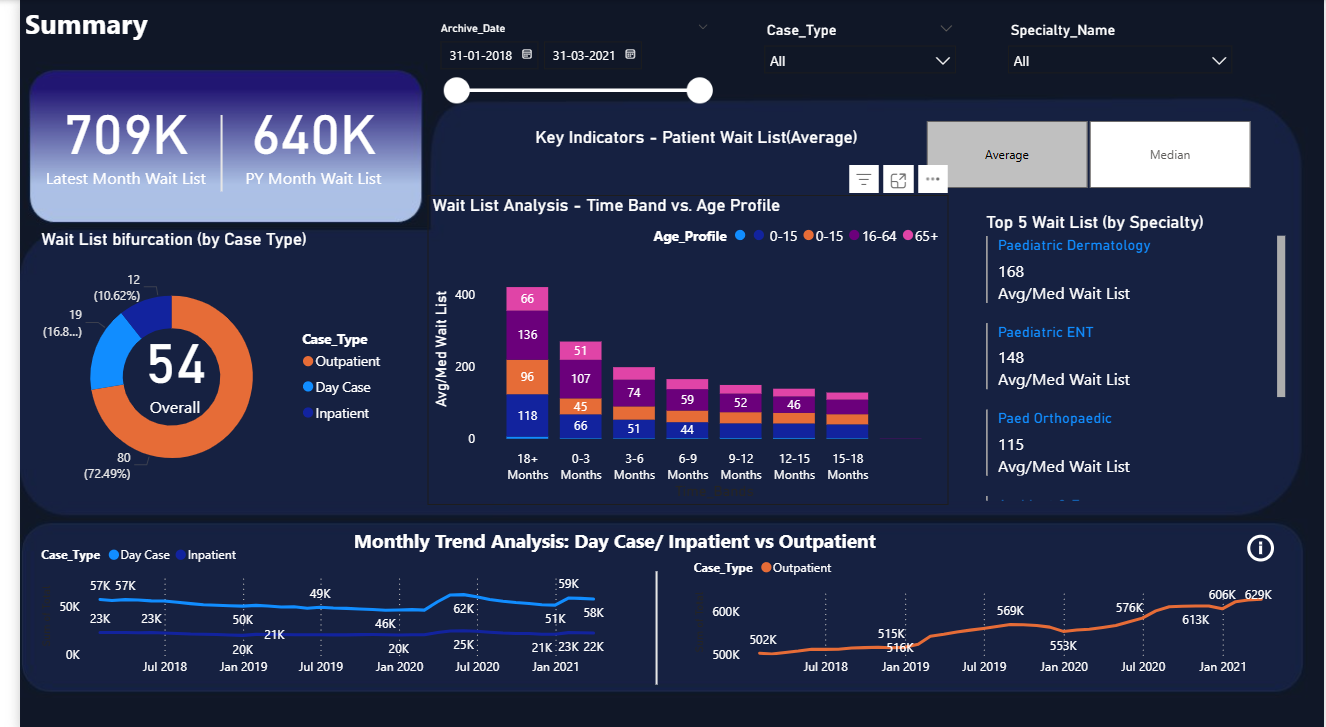

The page's visual inventory and layout, read from the dashboard file:
{"tool":"powerbi","page":{"name":"Summary","canvas":[1280,720],"ordinal":0},"visuals":[{"type":"card","fields":{"Values":["All_Data.Latest Month Wait List"]},"box":[16.2,63.8,176.2,143.8],"z":0},{"type":"card","fields":{"Values":["All_Data.PY Month Wait List"]},"box":[192.5,63.8,191.2,143.8],"z":1000},{"type":"slicer","fields":{"Values":["Calculation Method.Calc Method"]},"box":[864,112,368,80],"z":2000},{"type":"donutChart","title":"Wait List bifurcation (by Case Type)","fields":{"Category":["All_Data.Case_Type"],"Y":["All_Data.Avg/Med Wait List"]},"box":[16,224,352,272],"z":3000},{"type":"columnChart","title":"Wait List Analysis - Time Band vs. Age Profile","fields":{"Y":["All_Data.Avg/Med Wait List"],"Series":["All_Data.Age_Profile"],"Category":["All_Data.Time_Bands"]},"box":[400,192,512,304],"z":4000},{"type":"multiRowCard","title":"Top 5 Wait List (by Specialty)","fields":{"Values":["All_Data.Avg/Med Wait List","All_Data.Specialty_Name"]},"box":[943.8,207.5,303.8,288.8],"z":5000},{"type":"card","fields":{"Values":["All_Data.NoDataLeft"]},"box":[152.5,561.2,266.2,105],"z":6000},{"type":"lineChart","fields":{"Category":["All_Data.Archive_Date"],"Y":["Sum(All_Data.Total)"],"Series":["All_Data.Case_Type"]},"box":[16.2,525,576.2,147.5],"z":7000},{"type":"card","fields":{"Values":["All_Data.NoDataRight"]},"box":[775,561.2,266.2,105],"z":8000},{"type":"lineChart","fields":{"Category":["All_Data.Archive_Date"],"Y":["Sum(All_Data.Total)"],"Series":["All_Data.Case_Type"]},"box":[656.2,537.5,591.2,135],"z":9000},{"type":"slicer","fields":{"Values":["All_Data.Archive_Date"]},"box":[400,16,288,96],"z":10000},{"type":"slicer","fields":{"Values":["All_Data.Case_Type"]},"box":[720,16,208,80],"z":11000},{"type":"slicer","fields":{"Values":["All_Data.Specialty_Name"]},"box":[960,16,240,80],"z":12000},{"type":"textbox","box":[0,0,192,80],"z":13000},{"type":"card","fields":{"Values":["All_Data.Avg/Med Wait List"]},"box":[47.5,240,208.8,240],"z":14000},{"type":"shape","box":[47.5,112.5,300,75],"z":15000},{"type":"shape","box":[475,561.2,300,111.2],"z":16000},{"type":"textbox","box":[322.5,512.5,637.5,50],"z":17000},{"type":"card","fields":{"Values":["All_Data.Dynamic title"]},"box":[486.2,98.8,356.2,75],"z":18000},{"type":"actionButton","box":[1200,520.2,47.9,35.6],"z":19000}]}

Visuals, with their boxes in screenshot pixels (x1, y1, x2, y2), scaled from the page's 1280x720 canvas onto the 1326x727 screenshot:
card - All_Data.Latest Month Wait List: [left=17, top=64, right=199, bottom=210]
card - All_Data.PY Month Wait List: [left=199, top=64, right=397, bottom=210]
slicer - Calculation Method.Calc Method: [left=895, top=113, right=1276, bottom=194]
"Wait List bifurcation (by Case Type)" donutChart: [left=17, top=226, right=381, bottom=501]
"Wait List Analysis - Time Band vs. Age Profile" columnChart: [left=414, top=194, right=945, bottom=501]
"Top 5 Wait List (by Specialty)" multiRowCard: [left=978, top=210, right=1292, bottom=501]
card - All_Data.NoDataLeft: [left=158, top=567, right=434, bottom=673]
lineChart - All_Data.Archive_Date x Sum(All_Data.Total): [left=17, top=530, right=614, bottom=679]
card - All_Data.NoDataRight: [left=803, top=567, right=1079, bottom=673]
lineChart - All_Data.Archive_Date x Sum(All_Data.Total): [left=680, top=543, right=1292, bottom=679]
slicer - All_Data.Archive_Date: [left=414, top=16, right=713, bottom=113]
slicer - All_Data.Case_Type: [left=746, top=16, right=961, bottom=97]
slicer - All_Data.Specialty_Name: [left=994, top=16, right=1243, bottom=97]
textbox: [left=0, top=0, right=199, bottom=81]
card - All_Data.Avg/Med Wait List: [left=49, top=242, right=266, bottom=485]
shape: [left=49, top=114, right=360, bottom=189]
shape: [left=492, top=567, right=803, bottom=679]
textbox: [left=334, top=517, right=994, bottom=568]
card - All_Data.Dynamic title: [left=504, top=100, right=873, bottom=175]
actionButton: [left=1243, top=525, right=1293, bottom=561]
